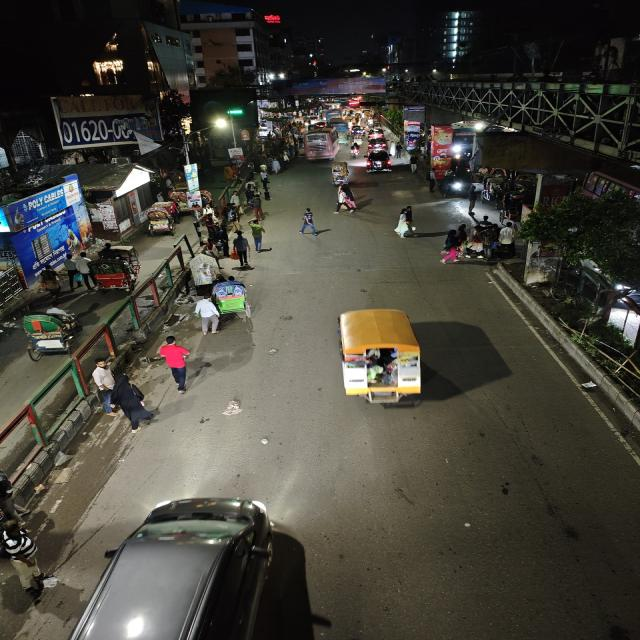bus: (0, 172, 90, 276), (301, 129, 341, 163), (330, 120, 347, 144)
car: (81, 492, 310, 640), (362, 150, 394, 173), (366, 140, 388, 154), (348, 125, 368, 136), (367, 129, 386, 138)
human_hauler: (328, 305, 432, 415)
motorcycle: (436, 177, 464, 200), (348, 141, 362, 158)
pedestrian: (111, 374, 151, 432), (157, 334, 192, 392), (87, 362, 114, 414), (191, 295, 223, 335), (492, 219, 519, 265), (392, 204, 420, 240), (438, 227, 463, 266), (65, 251, 88, 291), (37, 266, 64, 300), (331, 182, 359, 214), (229, 230, 251, 268), (464, 230, 490, 262), (74, 251, 92, 291), (248, 218, 269, 252), (297, 207, 318, 235), (466, 183, 483, 213), (196, 262, 214, 287), (454, 222, 470, 246), (407, 152, 422, 175)
rickshaw: (19, 305, 85, 363), (87, 246, 145, 294), (213, 276, 260, 325), (144, 207, 178, 237), (329, 160, 352, 182), (351, 134, 364, 144)
